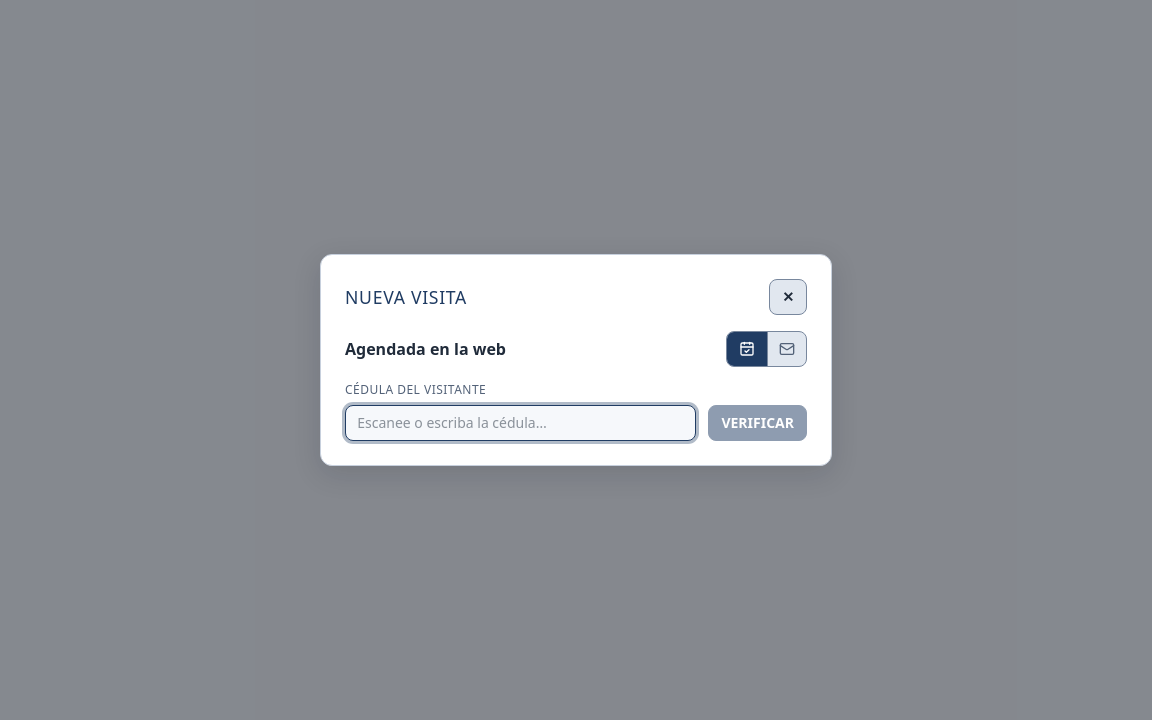
Test: FormularioPorCorreo: medio de ingreso › caminando no pide placa; vehículo la exige
Step 1. Click the button named "Autorizada por correo" → click(786, 349), box [767,332,806,366]
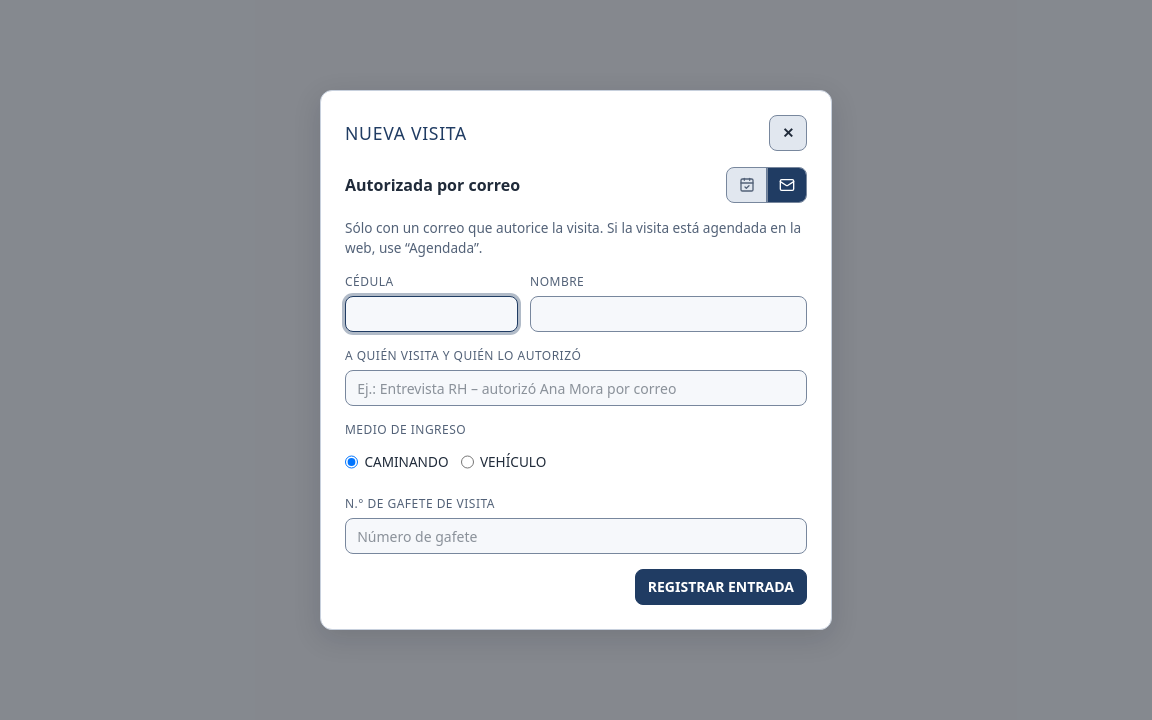
Expected: the field labelled "Placa del vehículo" is not shown
Step 2. Type "200" into the field labelled "Cédula" → (432, 314), box [345,296,518,332]
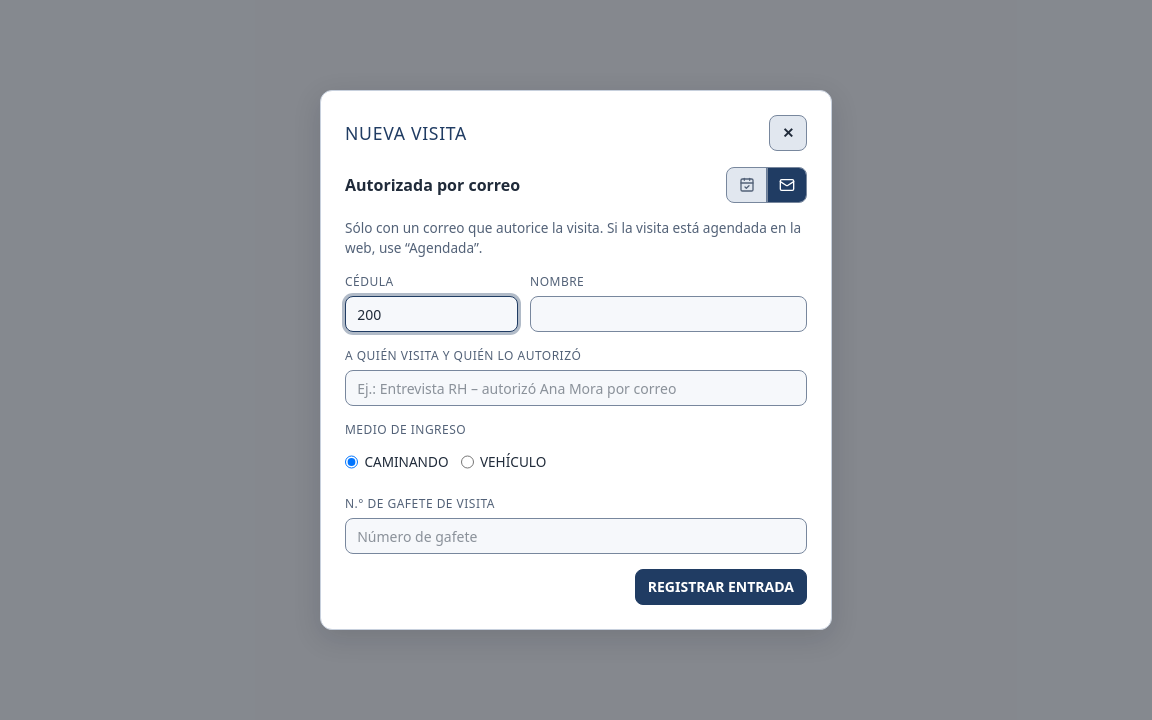
Step 3. Type "LUIS" into the field labelled "Nombre" → (669, 314), box [530,296,807,332]
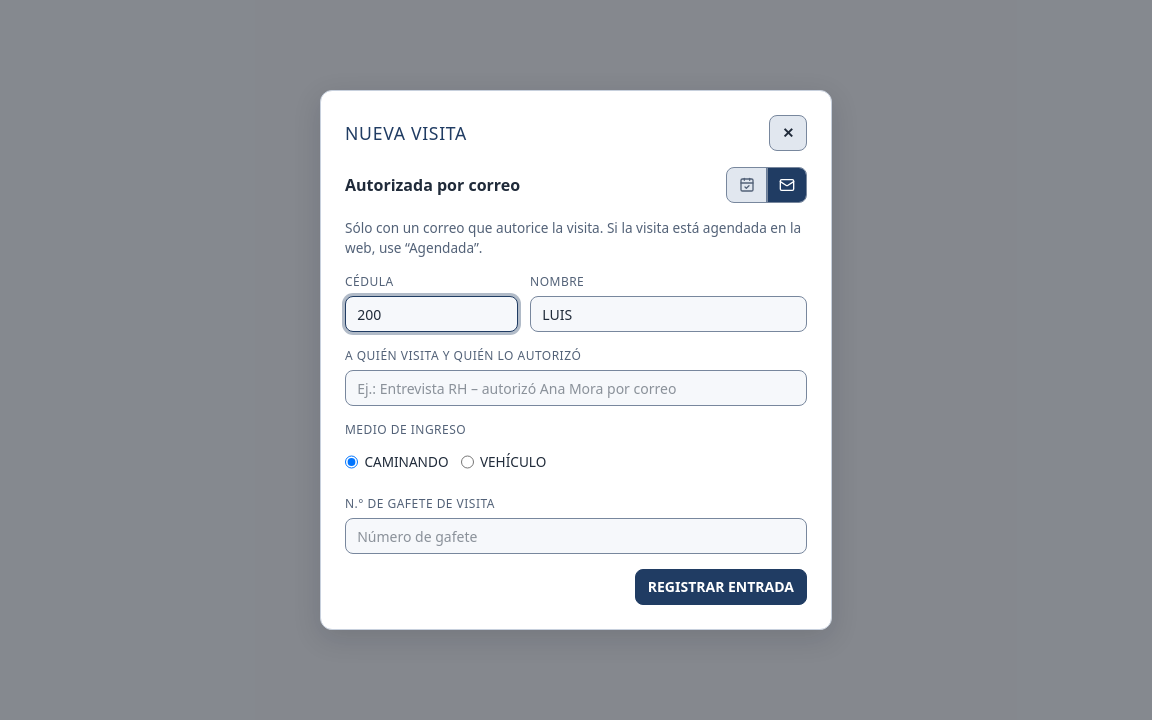
Step 4. Type "RH" into the field labelled "A quién visita y quién lo autorizó" → (576, 388), box [345,370,807,406]
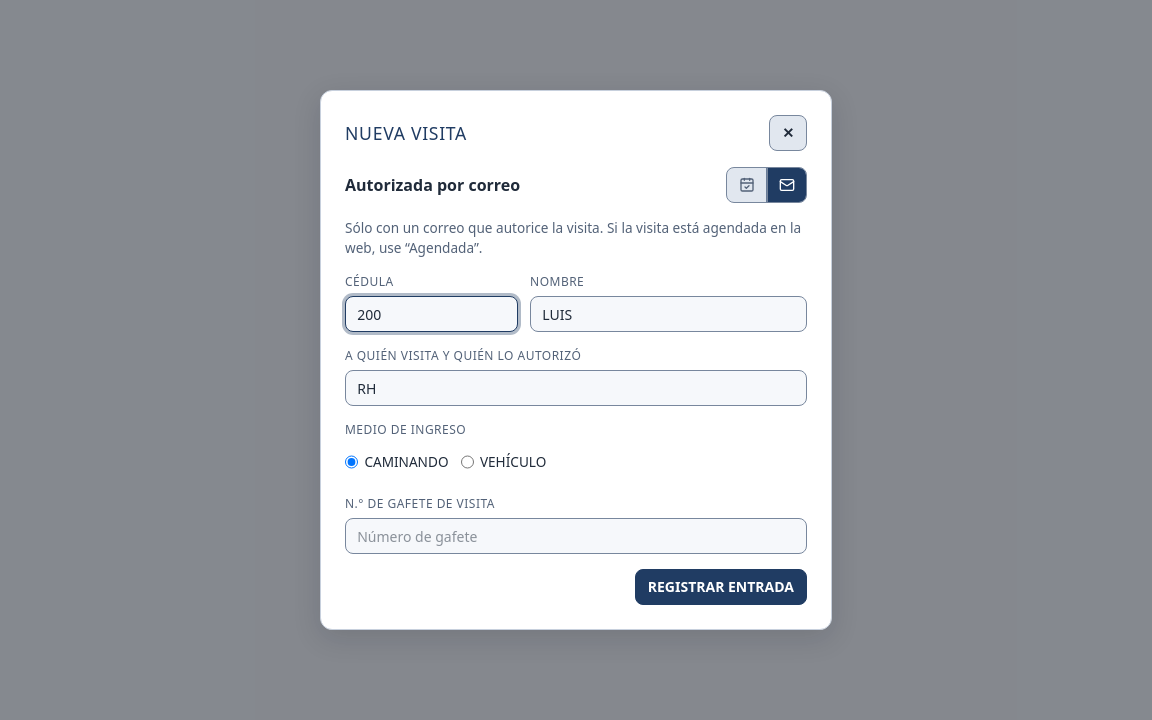
Step 5. Click the radio button labelled "Vehículo" → click(467, 462), box [460,444,474,480]
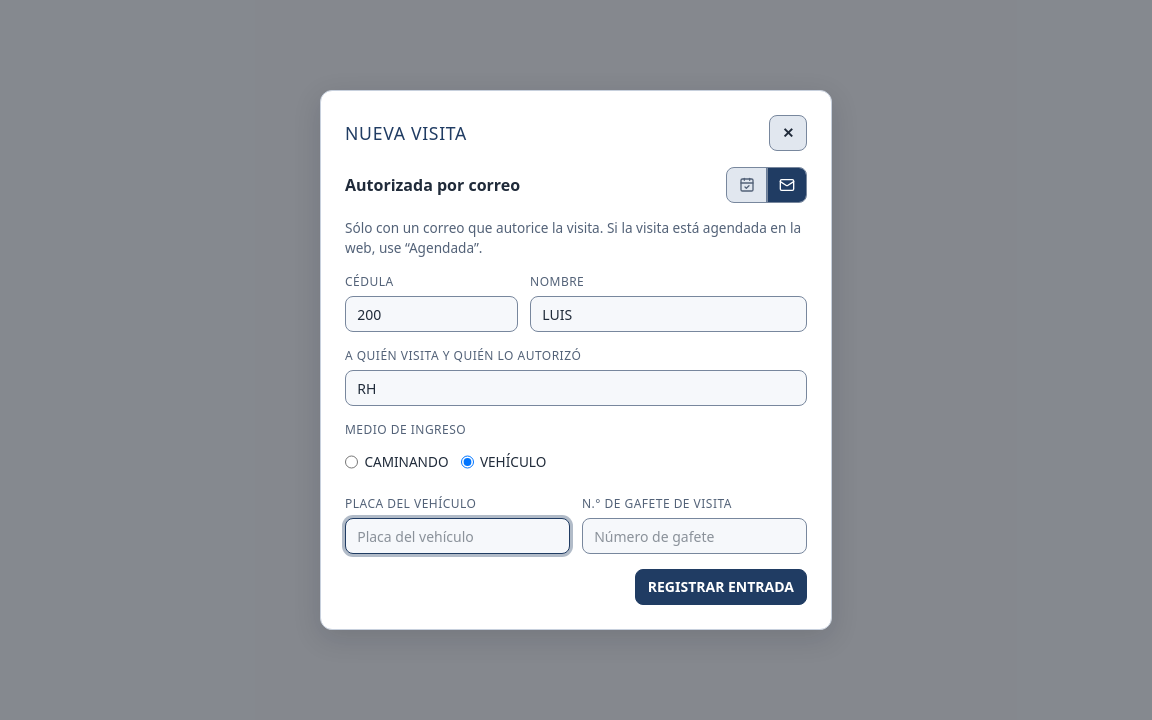
Step 6. Click the button "Registrar entrada" → click(721, 587), box [635,569,807,605]
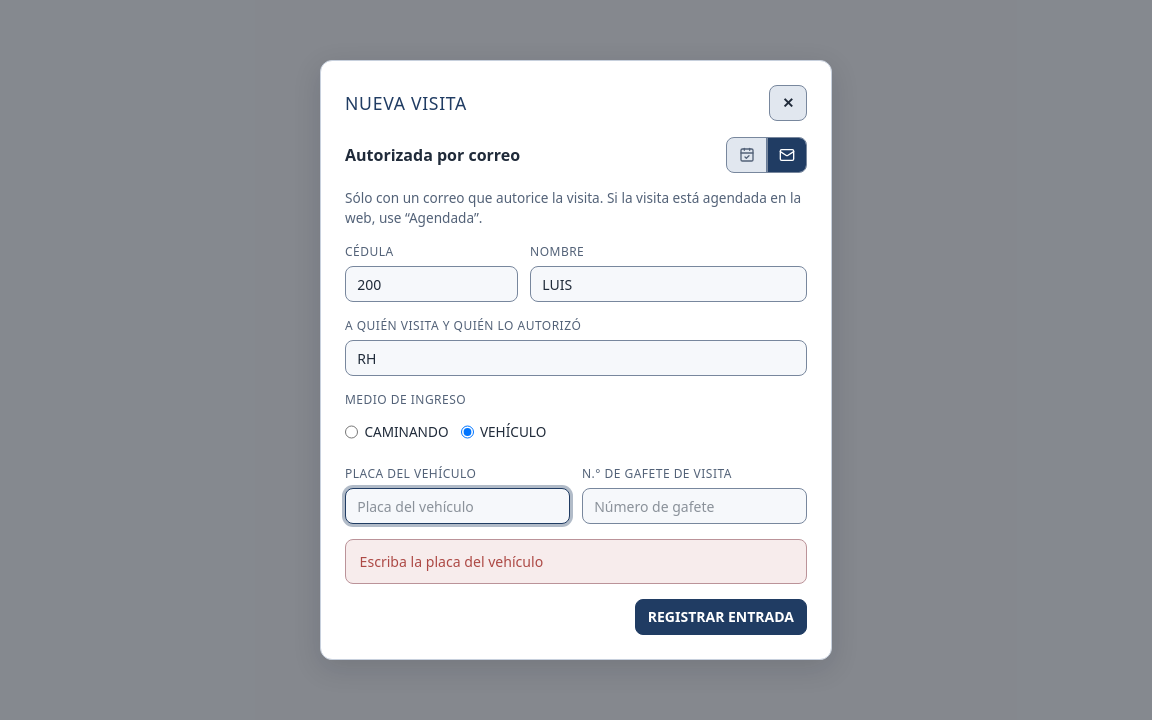
Now the message reads "Escriba la placa del vehículo", box [360,552,543,571]
